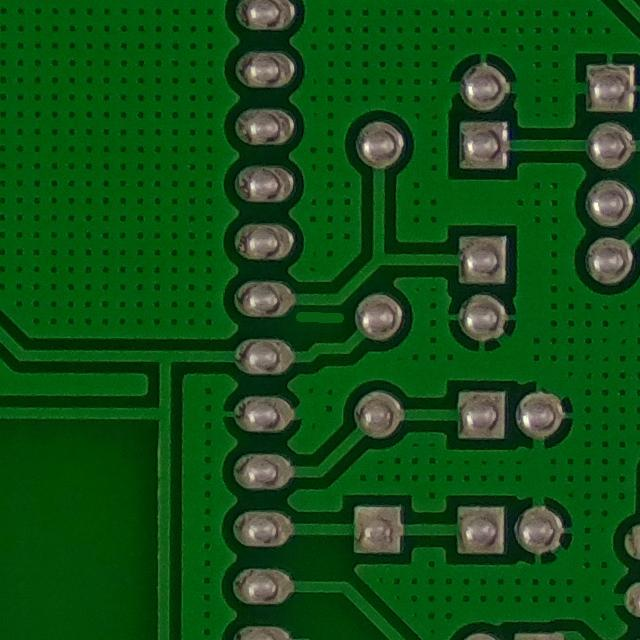spurious_copper: (292, 308, 348, 333)
